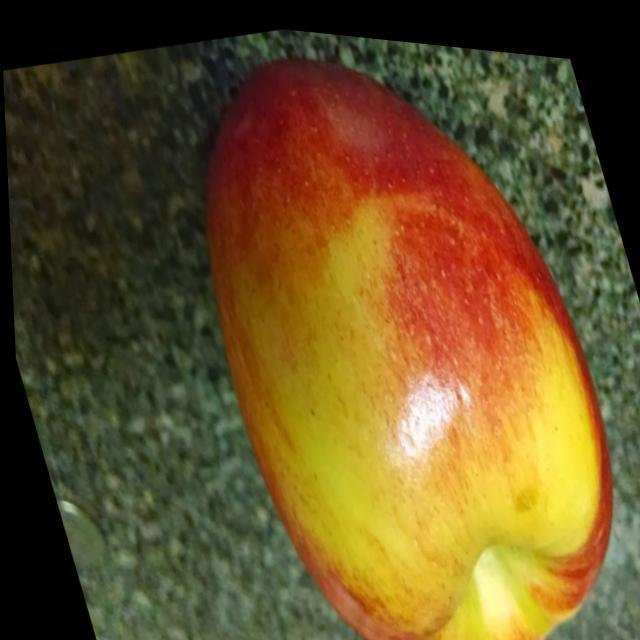Apple: (204, 52, 615, 632)
